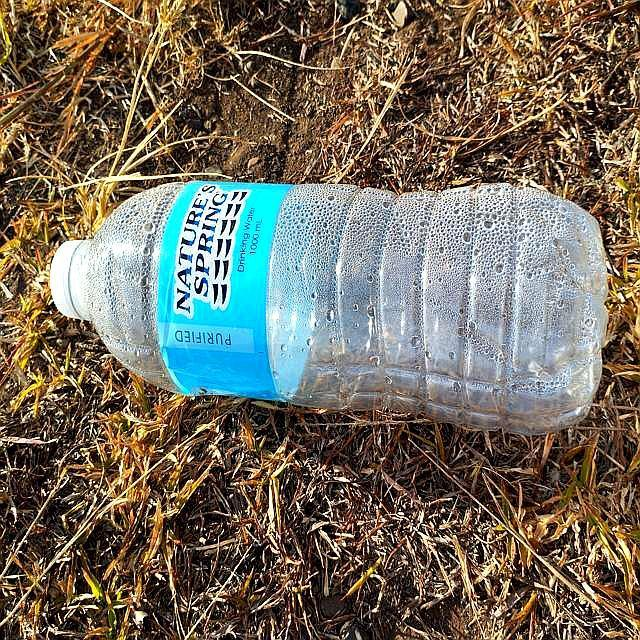Non-biodegradable: (49, 178, 613, 437)
